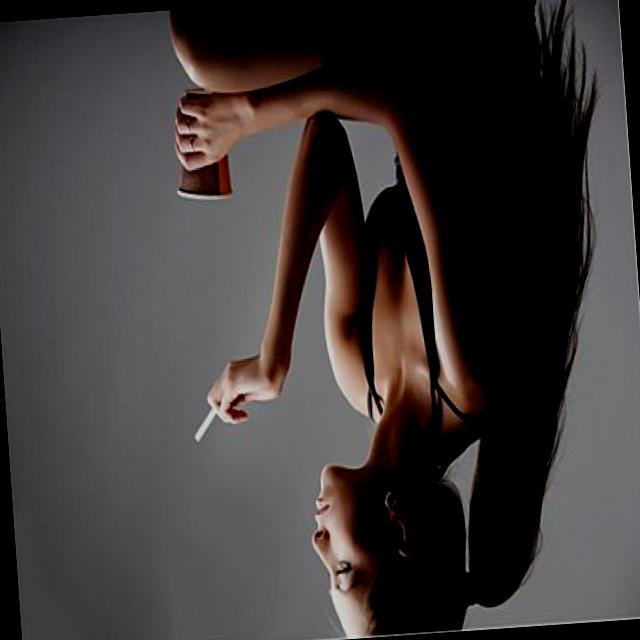cigarette: (189, 392, 228, 447)
